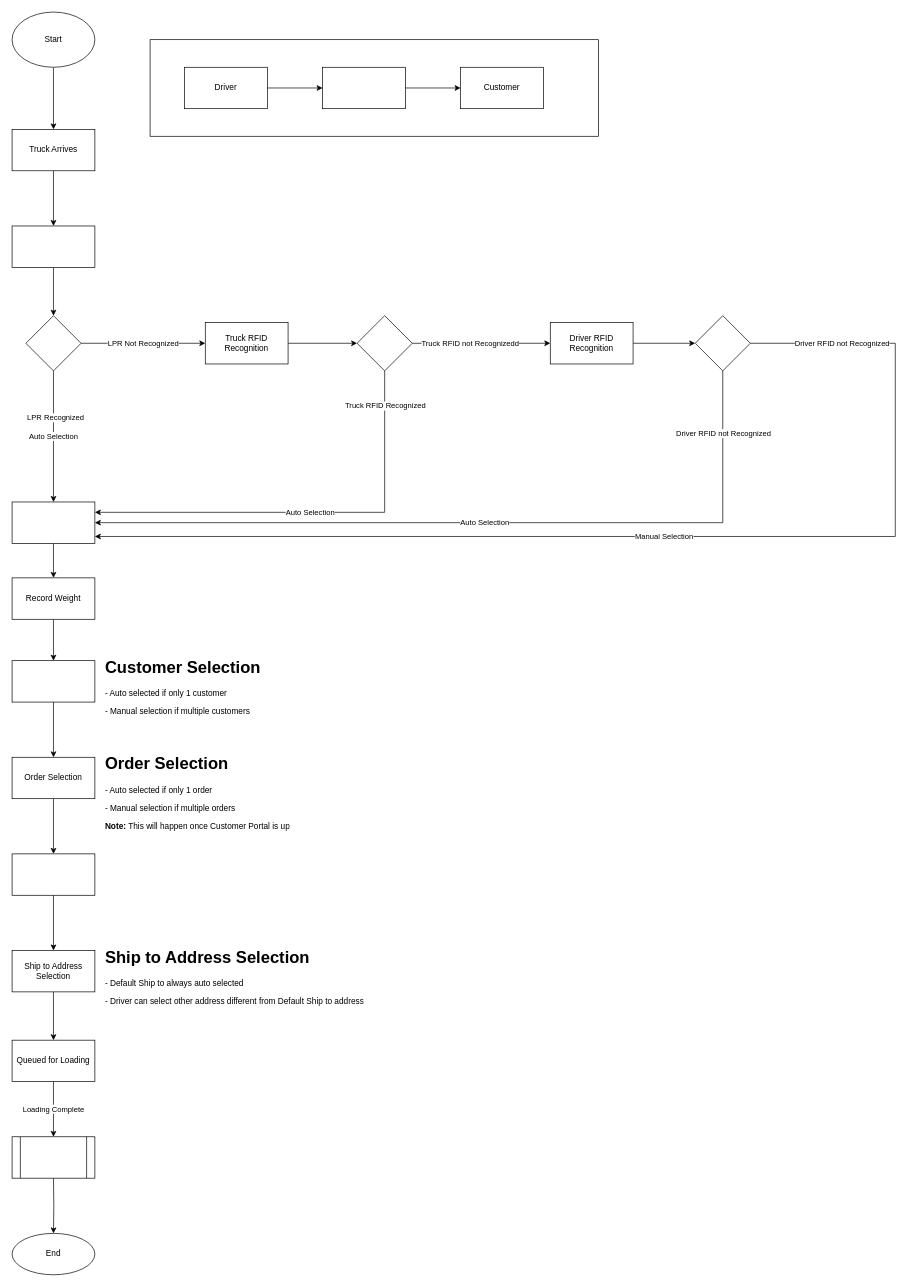
Image size: 913x1287. Some labels were removed from this diagram. The shapes that lost their labels are listed below. From the top down, each one's centre as x and y in pixels, then its label:
At pixel 363 88: "Truck".
At pixel 53 246: "LRP Recognition".
At pixel 53 522: "Truck Selection".
At pixel 53 681: "*Customer Selection".
At pixel 53 874: "Item(s) Selection".
At pixel 53 1157: "Checkout".
